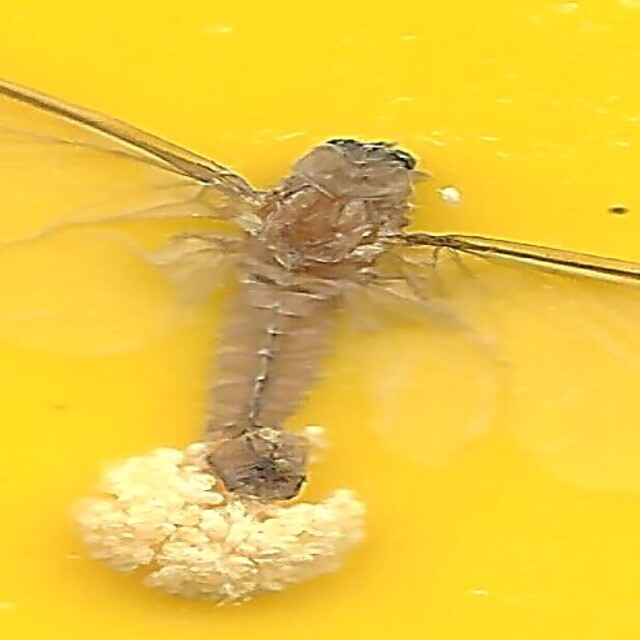Ephemeroptera: (207, 130, 433, 510)
